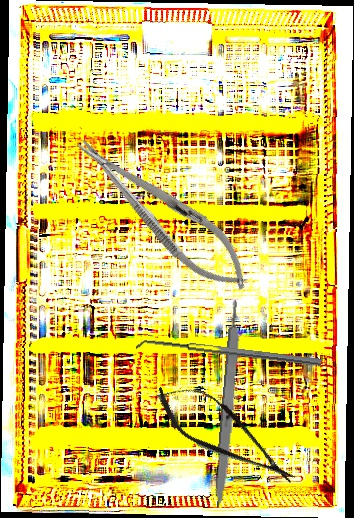Micro Scissor: (144, 368, 308, 501)
Needle Holder: (62, 120, 265, 306)
Scalpel Handle: (212, 299, 246, 509)
Spatula Surgical: (135, 336, 322, 374)
